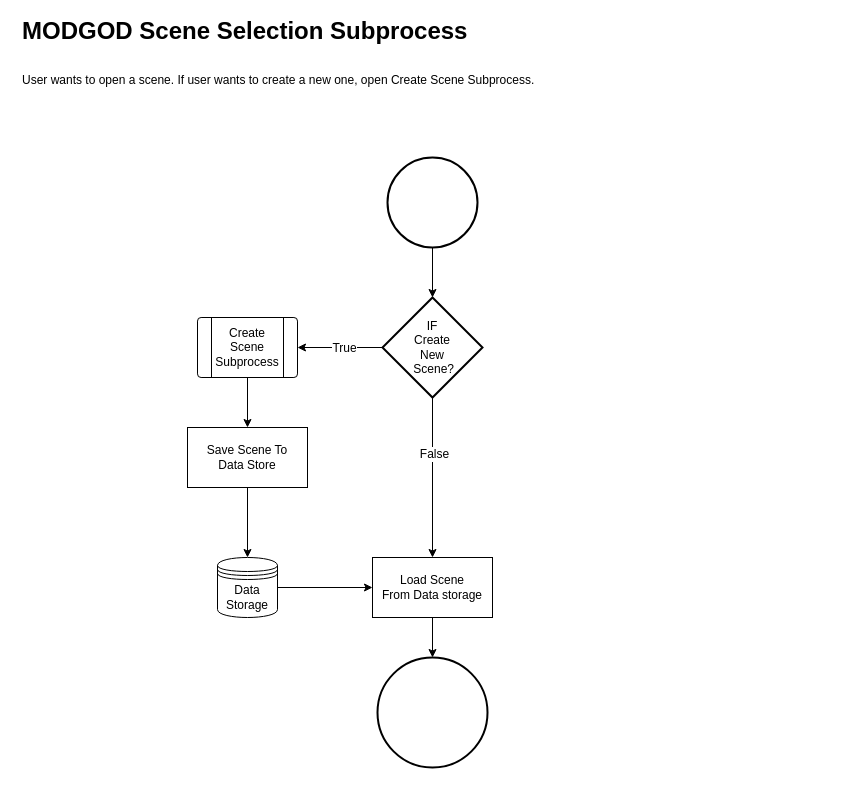
This 864x785 diagram has some shape labels left out. The shapes that lost their labels are listed below. From the top down, each one's centre as x and y in pixels, then its label:
[432,202]: START Open Scene
[432,712]: STOP Close Scene Selection Process
